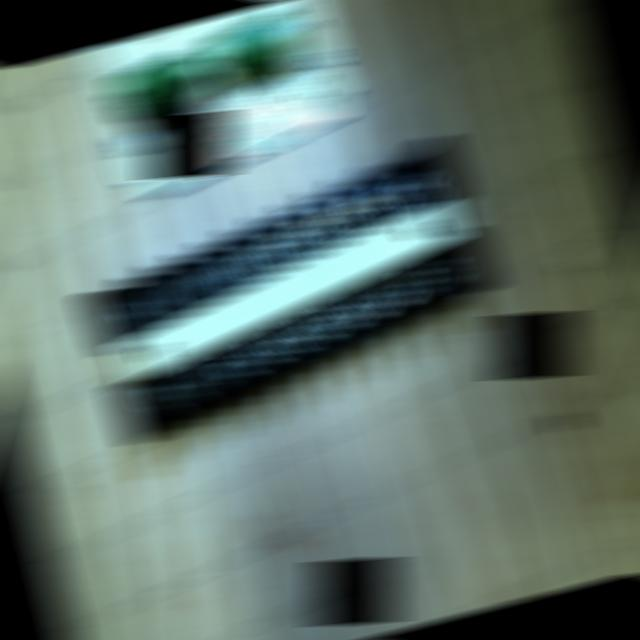Flathead_Block: (68, 136, 509, 444)
Terminal_1: (203, 6, 305, 84), (109, 47, 208, 118)
